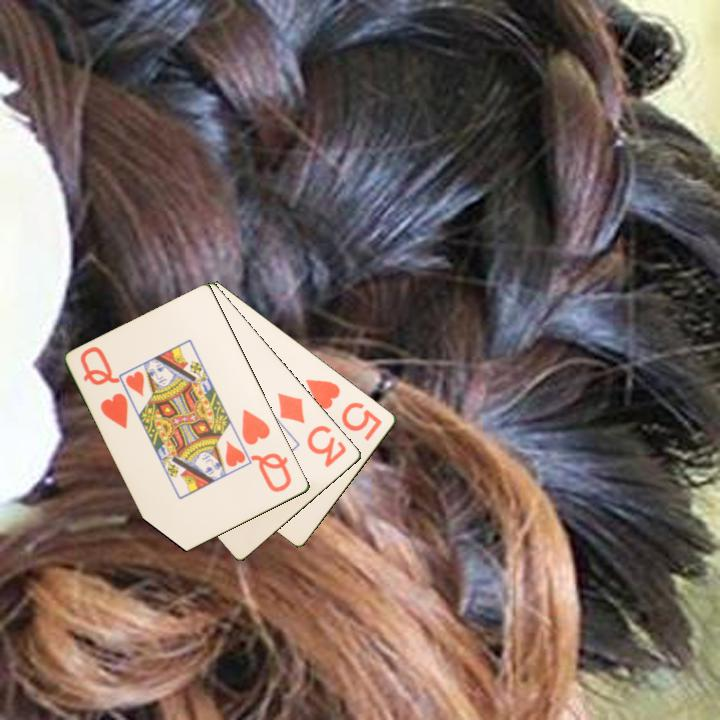3d: (274, 389, 350, 471)
5h: (302, 375, 386, 444)
Qh: (238, 406, 295, 495), (77, 343, 132, 432)
